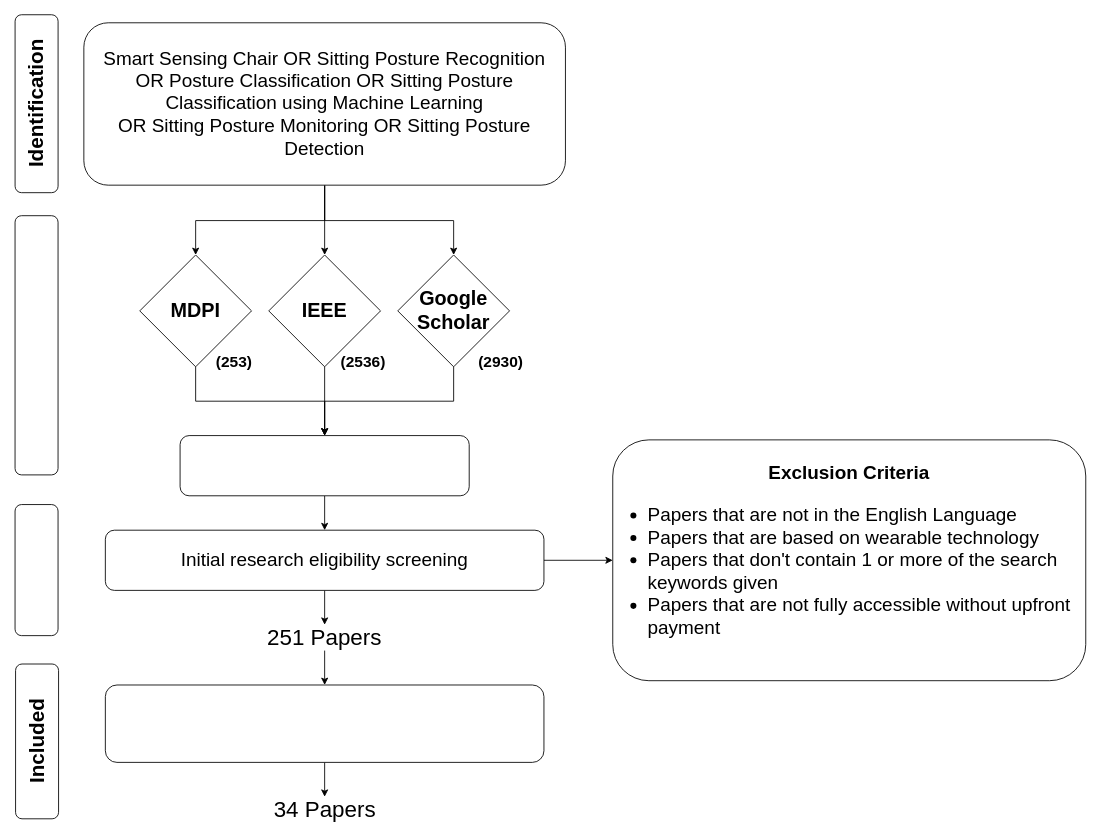
This 1101x839 diagram has some shape labels left out. Each missing label, with the centre of its shape:
"Eligibility" belongs at [36,570].
"Exclude duplicated papers" belongs at [324,465].
"Screening" belongs at [36,345].
"Selection after in-depth reading" belongs at [324,723].
